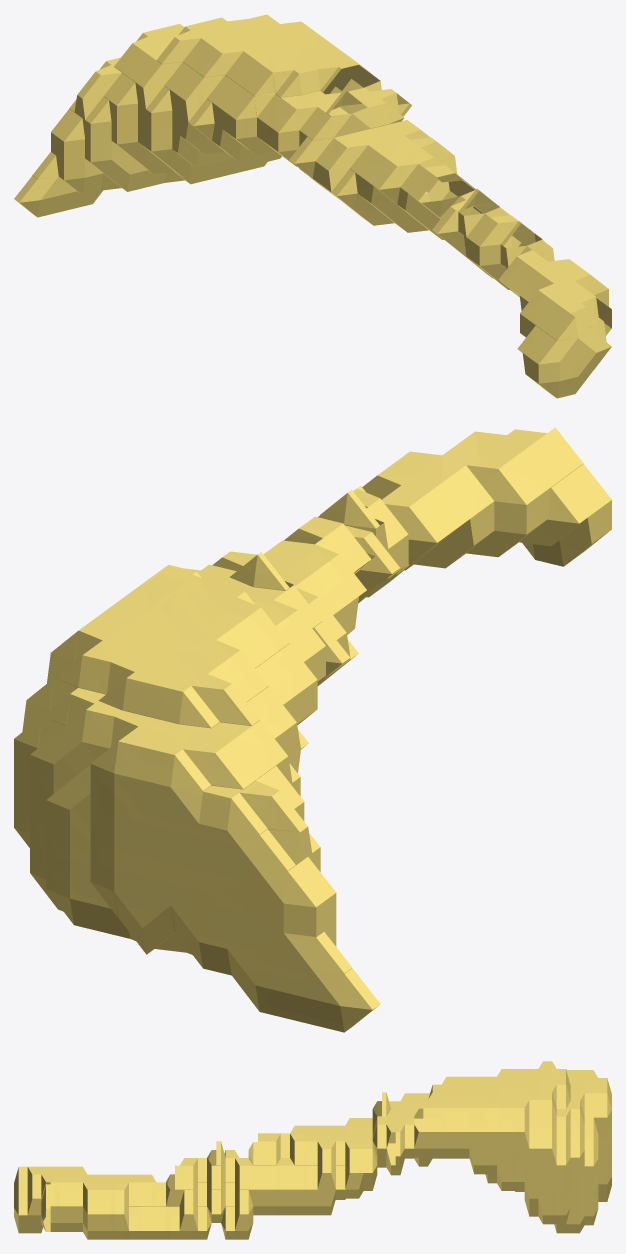
Rendered from SVV_BWM-VL06.gltf.
The picture shows the model from 3 angles, top to bottom: view 1: azimuth 30°, elevation 25°; view 2: azimuth 150°, elevation 25°; view 3: azimuth 270°, elevation 25°; orthographic projection. The views are drawn at different scales.
Visible parts, largest first — view 1: BWM-VL06; view 2: BWM-VL06; view 3: BWM-VL06.
Part boxes in pixels (box(x1,y1,x2,y2)): BWM-VL06: box(14, 14, 611, 398); BWM-VL06: box(14, 427, 611, 1032); BWM-VL06: box(14, 1061, 611, 1239).
Bounding box in the file's own units: 8190 × 4603 × 16648.
